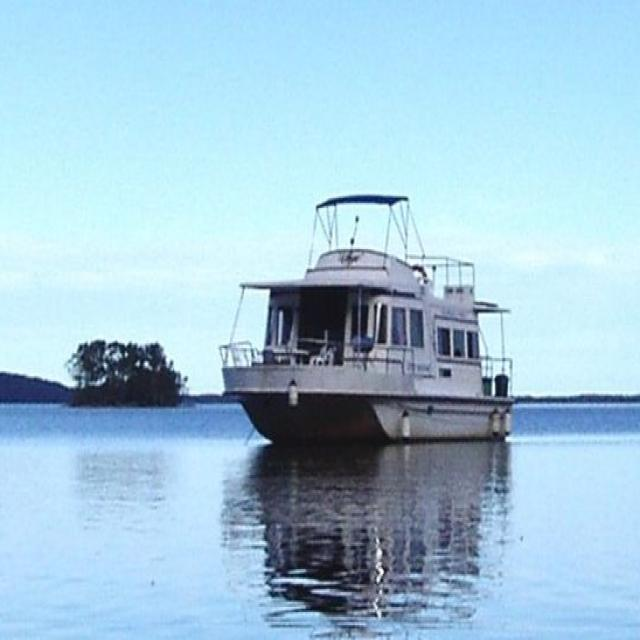houseboat: (206, 194, 520, 445)
